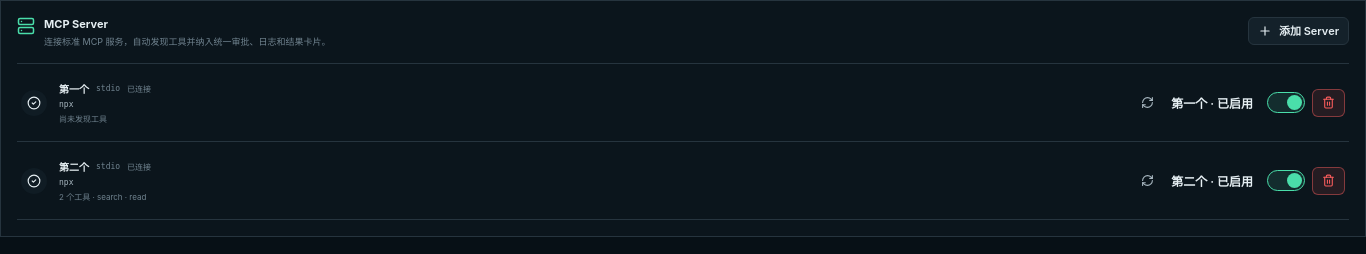
Test: McpSettingsSection › 刷新成功后仅替换目标 Server 并展示发现的工具数
Click the button named "刷新 第一个": (1148, 102) [1131,88,1164,116]
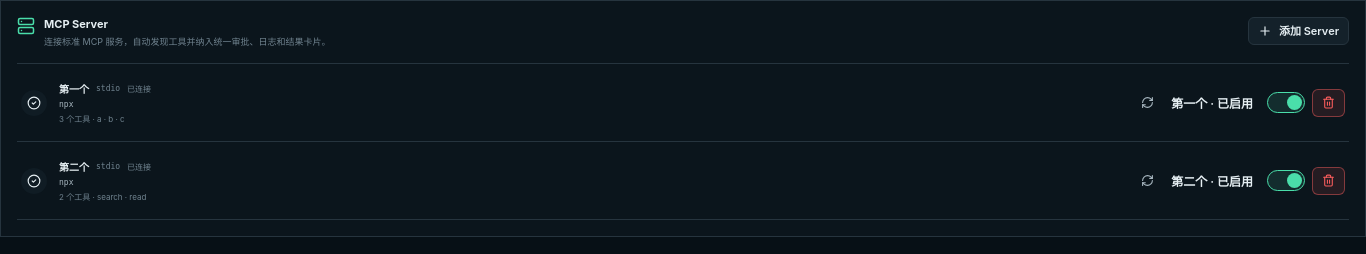
Check: the text "2 个工具 · search · read" is shown, box [59,192,146,202]
Check: the text "3 个工具 · a · b · c" is shown, box [59,114,125,124]
